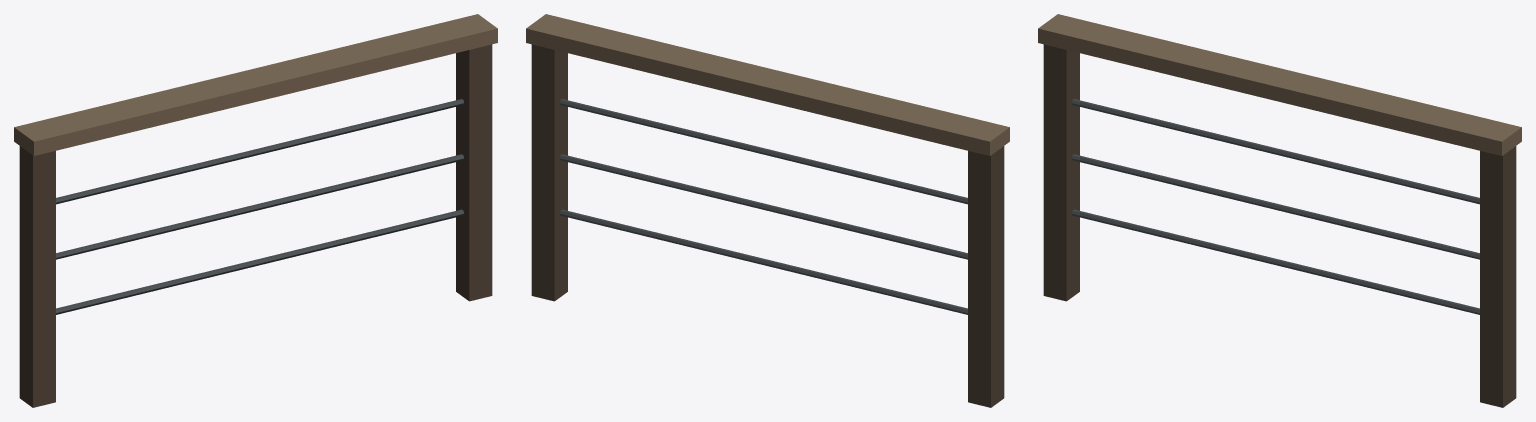
Rendered from rail.glb.
3 renders of one model, left to right at view 1: azimuth 30°, elevation 25°; view 2: azimuth 150°, elevation 25°; view 3: azimuth 330°, elevation 25°, orthographic.
Visible parts, largest first — view 1: board2, beam0, beam1, steel3, steel4, steel5; view 2: board2, beam0, beam1, steel3, steel4, steel5; view 3: board2, beam1, beam0, steel3, steel4, steel5.
Part boxes in pixels (x1,y1,x2,y2): board2: (14, 14, 497, 155); beam0: (19, 146, 55, 407); beam1: (456, 44, 492, 301); steel3: (56, 209, 464, 314); steel4: (56, 154, 464, 259); steel5: (56, 99, 463, 204); board2: (526, 14, 1009, 155); beam0: (968, 146, 1004, 407); beam1: (531, 44, 567, 301); steel3: (559, 209, 967, 314); steel4: (559, 154, 967, 259); steel5: (560, 99, 967, 204); board2: (1038, 14, 1521, 155); beam1: (1480, 146, 1516, 407); beam0: (1043, 44, 1079, 301); steel3: (1071, 209, 1479, 314); steel4: (1071, 154, 1479, 259); steel5: (1072, 99, 1479, 204).
Bounding box in the file's own units: 2.02 × 1.12 × 0.15.
